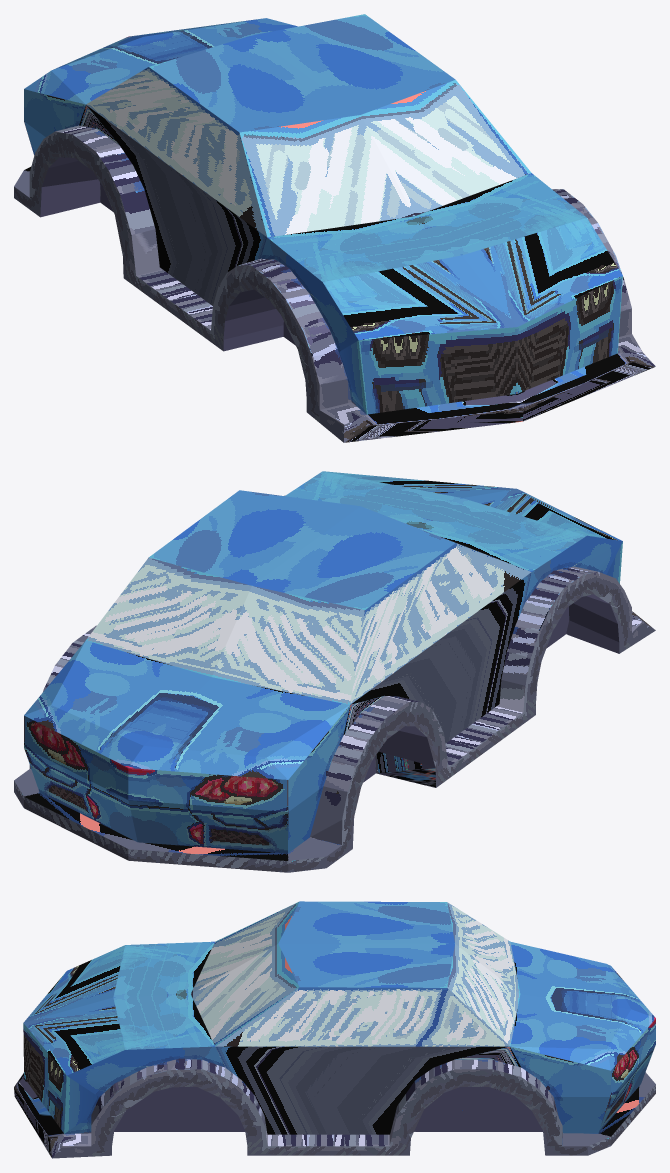
The model's file is Collisionvoiture.glb.
3 renders of one model, top to bottom at view 1: azimuth 30°, elevation 25°; view 2: azimuth 150°, elevation 25°; view 3: azimuth 270°, elevation 25°, orthographic. The views are drawn at different scales.
Parts seen in each view (by area): view 1: body-convcolonly; view 2: body-convcolonly; view 3: body-convcolonly.
Boxes of the visible parts, <box> form: body-convcolonly: <box>14,14,655,442</box>; body-convcolonly: <box>14,471,655,872</box>; body-convcolonly: <box>14,901,655,1158</box>.
Bounding box in the file's own units: 1.3 × 0.7474 × 2.85.
1 material, 1 textured.
